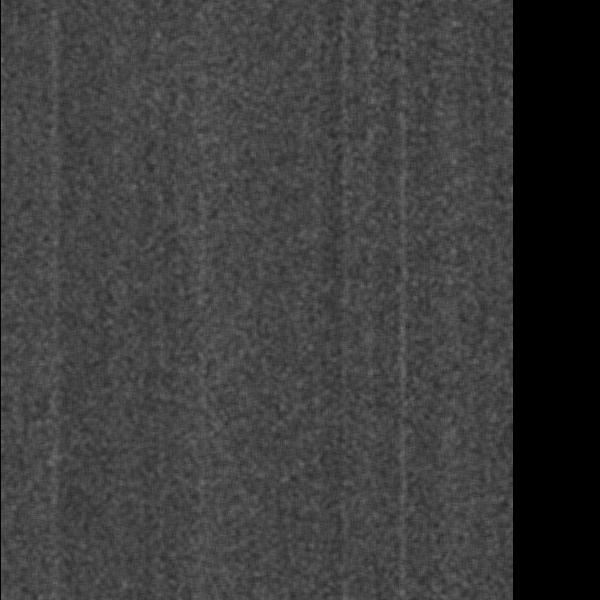spark: (124, 484, 160, 518)
